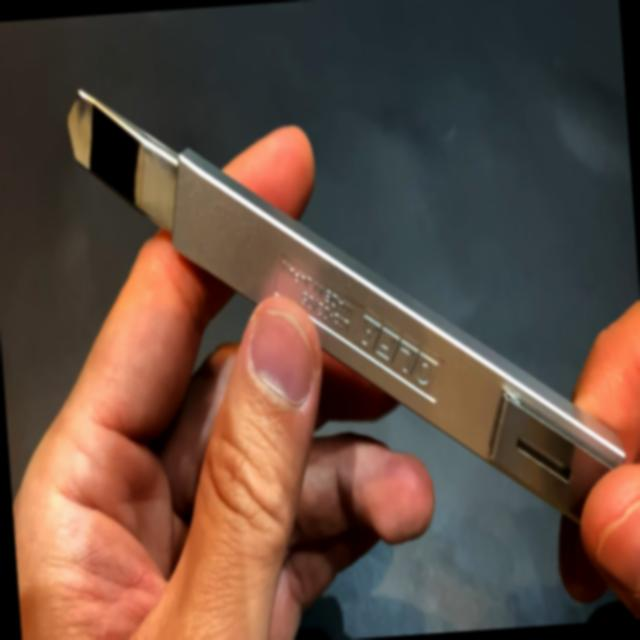cutter: (57, 9, 639, 598)
